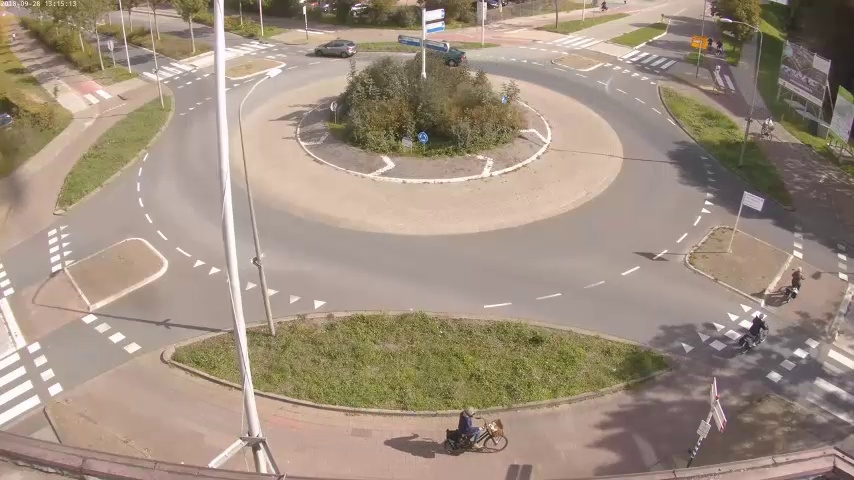bicycle: (443, 405, 510, 458), (739, 312, 765, 355), (780, 267, 803, 306), (759, 116, 772, 144), (705, 35, 716, 58), (715, 39, 724, 58)
car: (428, 43, 467, 73), (314, 35, 355, 61)
